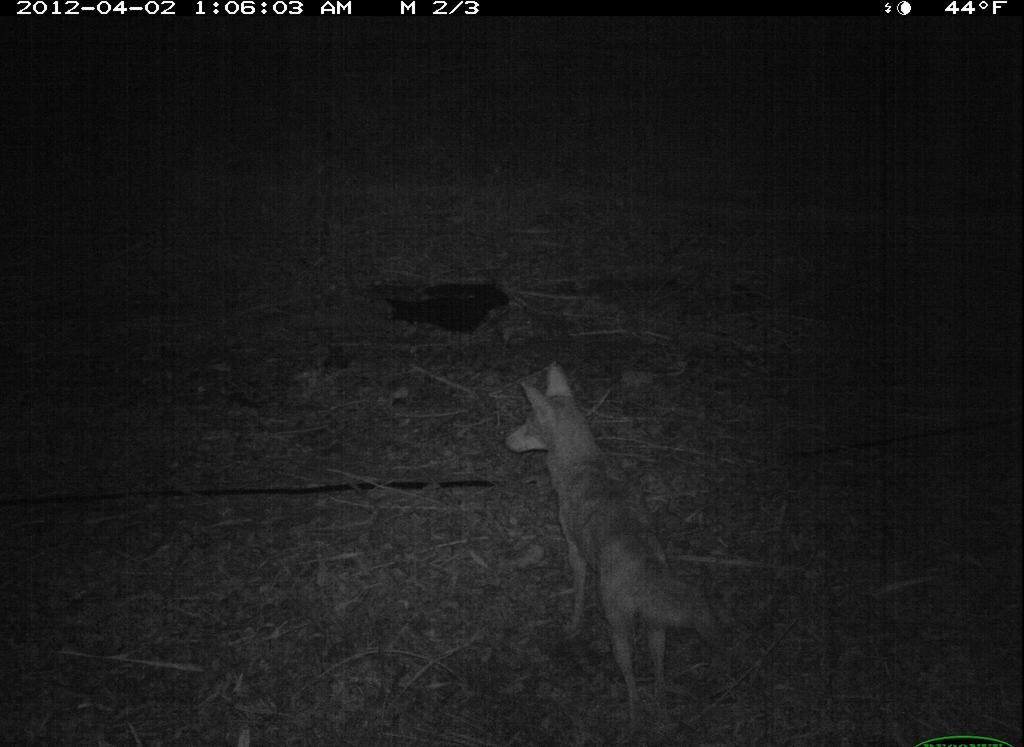coyote: (505, 360, 738, 737)
